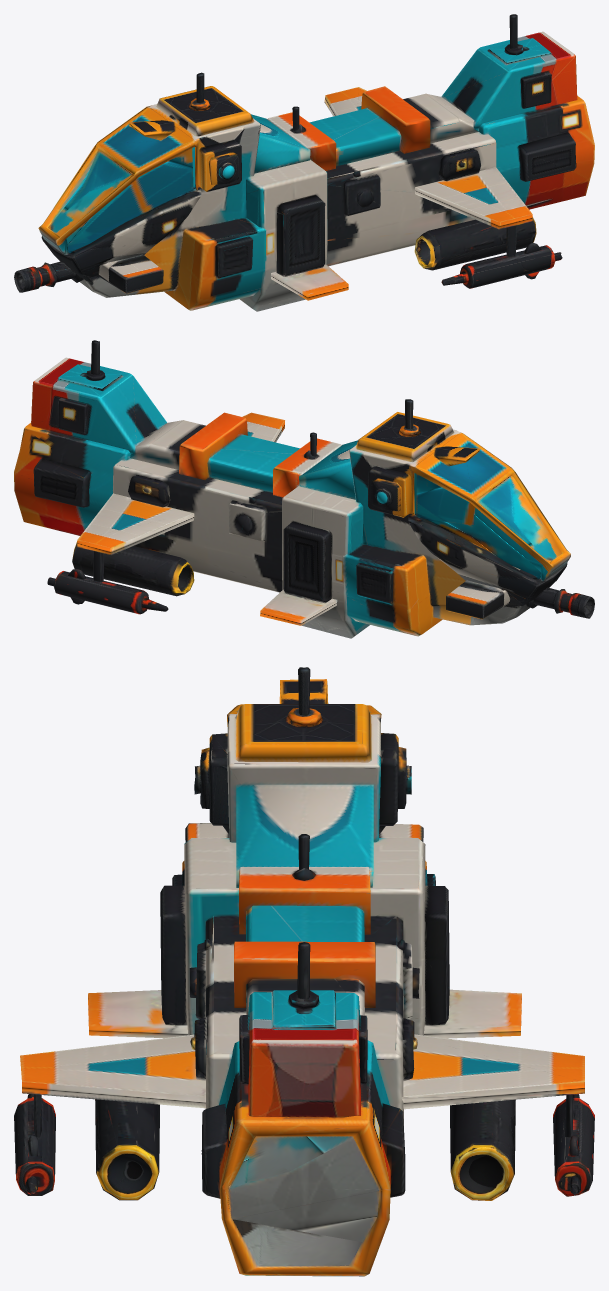
File: Body color.glb
3 views of the same model, one above another, from view 1: azimuth 30°, elevation 25°; view 2: azimuth 150°, elevation 25°; view 3: azimuth 270°, elevation 25° (orthographic). The views are drawn at different scales.
Bounding box in the file's own units: 1 × 0.3965 × 0.5664.
1 material, 1 textured.
